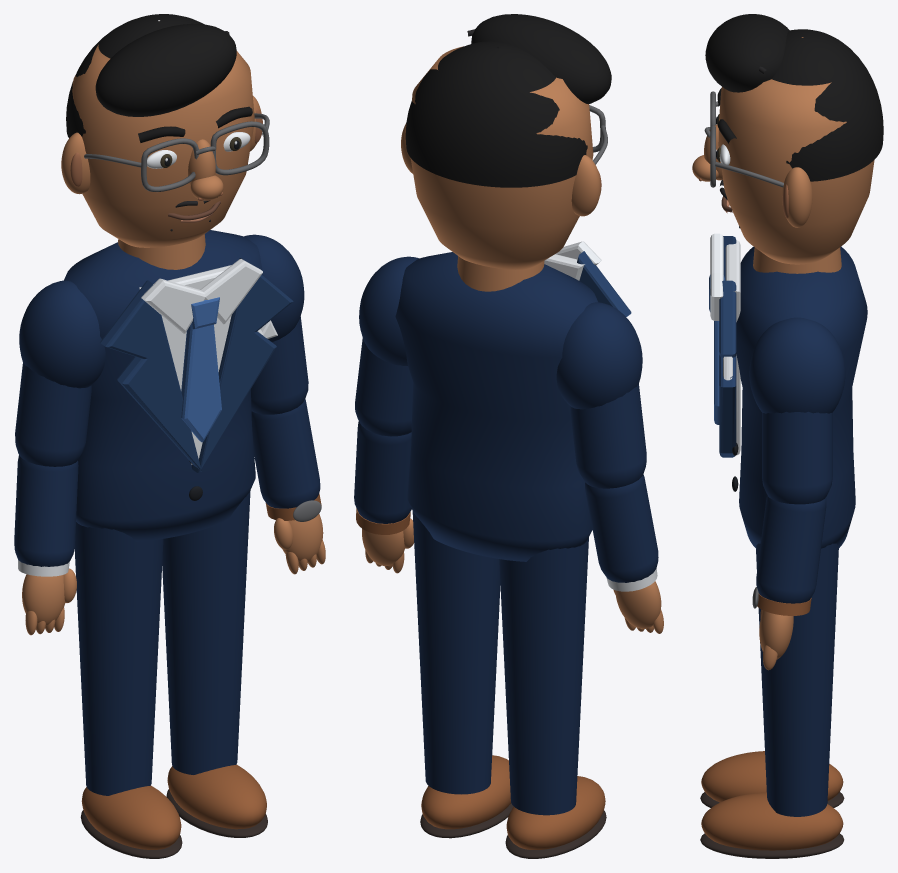
File: somil-avatar.glb
3 views of the same model, side by side, from view 1: azimuth 30°, elevation 25°; view 2: azimuth 150°, elevation 25°; view 3: azimuth 270°, elevation 25° (orthographic).
Visible parts, largest first — view 1: Trouser leg (×2), Navy tailored jacket, Face, Forearm sleeve (×2), Jacket shoulder (×2), Side swept quiff, Leather shoe (×2), Upper sleeve (×2), Left lapel, Right lapel, Tie blade, Hand (×2) (+11 smaller); view 2: Navy tailored jacket, Trouser leg (×2), Sculpted hairstyle, Face, Jacket shoulder (×2), Forearm sleeve (×2), Upper sleeve (×2), Leather shoe (×2), Side swept quiff, Hand (×2), Shoe sole (×2), Neck (+4 smaller); view 3: Face, Navy tailored jacket, Trouser leg, Sculpted hairstyle, Leather shoe (×2), Jacket shoulder, Upper sleeve, Forearm sleeve, Side swept quiff, Right lapel, Shoe sole, Ear (+9 smaller).
Part boxes in pixels (x1,y1,x2,y2): Trouser leg (×2): (74, 490, 250, 795); Navy tailored jacket: (64, 230, 262, 541); Face: (72, 44, 254, 247); Forearm sleeve (×2): (14, 399, 320, 566); Jacket shoulder (×2): (19, 234, 304, 388); Side swept quiff: (95, 23, 236, 116); Leather shoe (×2): (81, 764, 266, 849); Upper sleeve (×2): (15, 316, 308, 466); Left lapel: (100, 280, 201, 471); Right lapel: (191, 258, 293, 472); Tie blade: (181, 324, 221, 442); Hand (×2): (22, 514, 323, 626); Navy tailored jacket: (395, 252, 597, 561); Trouser leg (×2): (412, 511, 588, 815); Sculpted hairstyle: (405, 41, 587, 187); Face: (410, 46, 593, 269); Jacket shoulder (×2): (359, 256, 642, 409); Forearm sleeve (×2): (354, 421, 658, 582); Upper sleeve (×2): (355, 338, 646, 488); Leather shoe (×2): (421, 755, 605, 849); Side swept quiff: (471, 14, 611, 104); Hand (×2): (362, 529, 661, 628); Shoe sole (×2): (420, 803, 606, 858); Neck: (457, 256, 544, 291); Face: (718, 37, 874, 264); Navy tailored jacket: (736, 246, 867, 548); Trouser leg: (756, 543, 838, 816); Sculpted hairstyle: (771, 29, 883, 181); Leather shoe (×2): (701, 751, 843, 850); Jacket shoulder: (749, 317, 845, 413); Upper sleeve: (762, 411, 832, 504); Forearm sleeve: (756, 495, 826, 603); Side swept quiff: (705, 14, 789, 92); Right lapel: (719, 280, 736, 453); Shoe sole: (700, 833, 844, 858); Ear: (782, 167, 812, 227).
Size of the model in its own units: 1.64 by 4.23 by 0.916.
